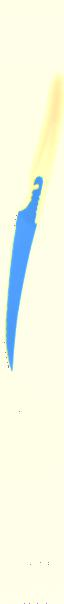Knife: (6, 72, 64, 372)
